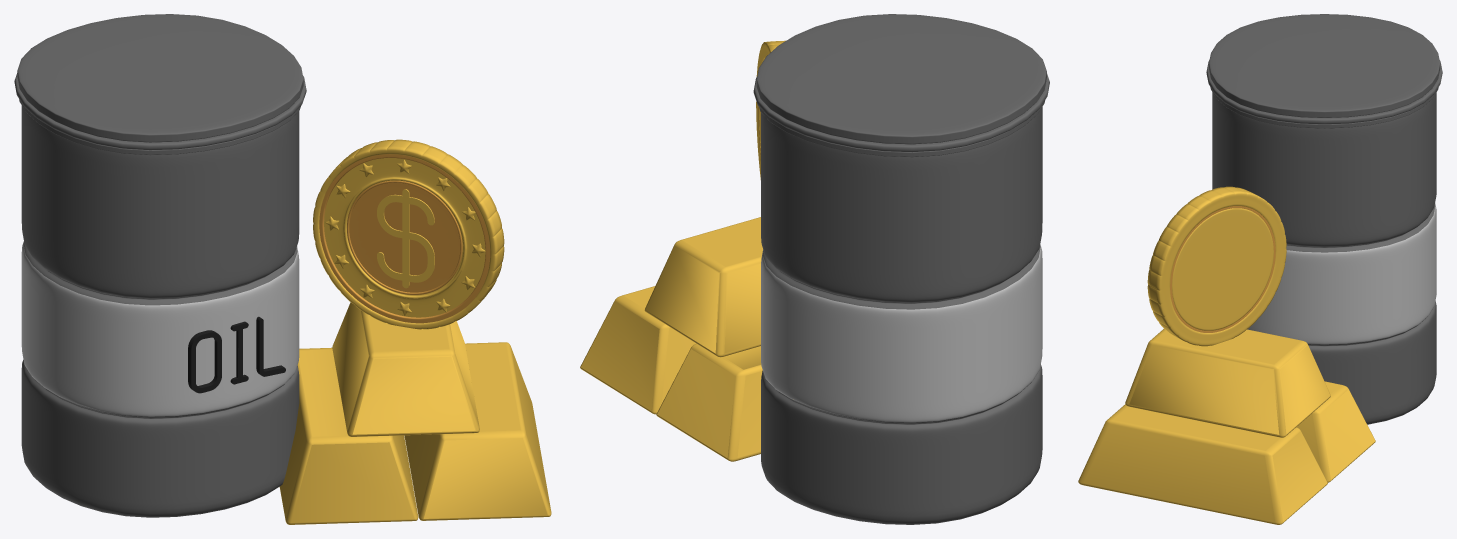
The model's file is commodity-money-3d-animated-icon-302273877755.glb.
The picture shows the model from 3 angles, left to right: view 1: azimuth 30°, elevation 25°; view 2: azimuth 150°, elevation 25°; view 3: azimuth 270°, elevation 25°; orthographic projection. The views are drawn at different scales.
Visible parts, largest first — view 1: Cube, Cube.001, Cube.002, Stars, Cube.004, Cube.003, Dollar Coin, Dollar Symbol, Curve; view 2: Cube, Cube.001, Cube.004, Cube.003, Cube.002, Stars; view 3: Cube, Cube.001, Cube.002, Stars, Cube.004, Cube.003, Dollar Coin.
Part boxes in pixels (x1,y1,x2,y2): Cube: [21, 105, 299, 517]; Cube.001: [14, 14, 306, 155]; Cube.002: [404, 342, 551, 520]; Stars: [313, 139, 504, 329]; Cube.004: [332, 302, 479, 436]; Cube.003: [279, 347, 418, 524]; Dollar Coin: [319, 154, 490, 323]; Dollar Symbol: [377, 189, 434, 288]; Curve: [188, 316, 285, 393]; Cube: [761, 107, 1042, 524]; Cube.001: [753, 14, 1049, 157]; Cube.004: [644, 217, 762, 357]; Cube.003: [656, 343, 762, 461]; Cube.002: [580, 286, 695, 414]; Stars: [756, 40, 785, 179]; Cube: [1212, 92, 1436, 424]; Cube.001: [1206, 14, 1442, 128]; Cube.002: [1078, 404, 1327, 524]; Stars: [1147, 186, 1286, 346]; Cube.004: [1125, 329, 1330, 437]; Cube.003: [1296, 381, 1375, 482]; Dollar Coin: [1170, 206, 1275, 332].
Bounding box in the file's own units: 2.15 × 1.74 × 1.76.
